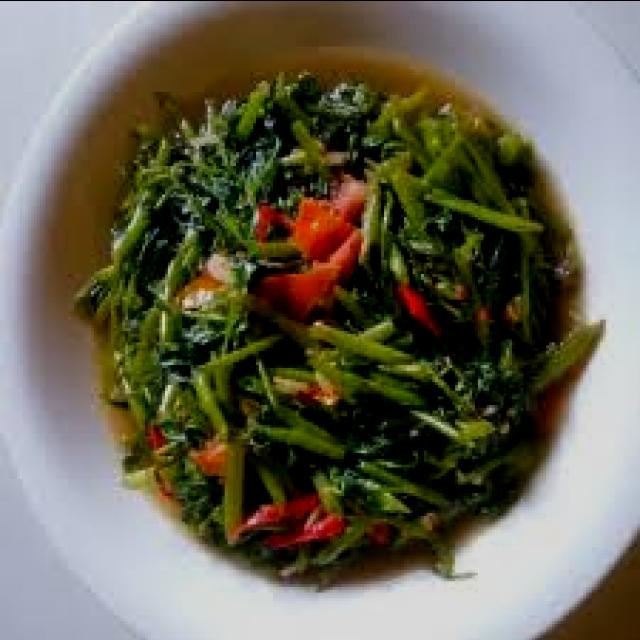tumis kangkung: (74, 54, 603, 589)
